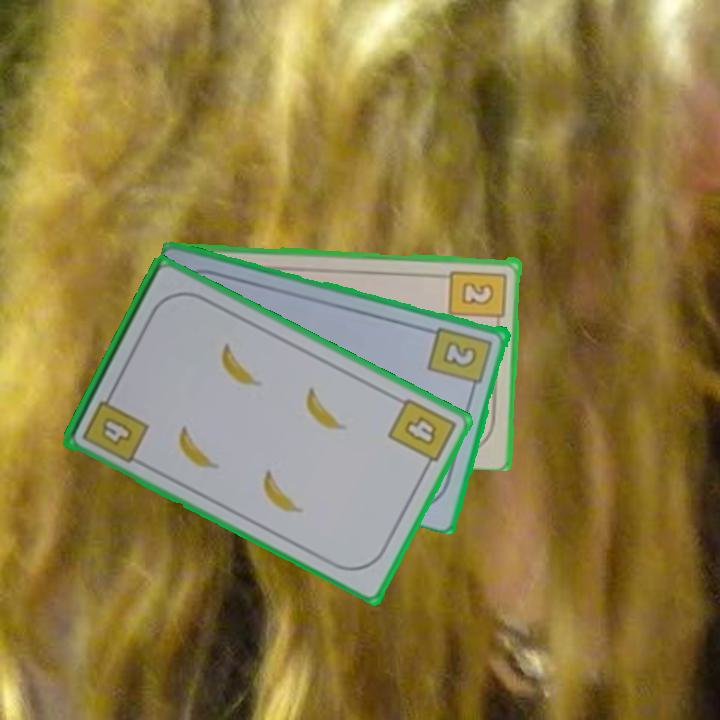2b: (425, 323, 496, 395), (446, 266, 510, 330)
4b: (384, 394, 459, 474), (79, 387, 152, 466)
